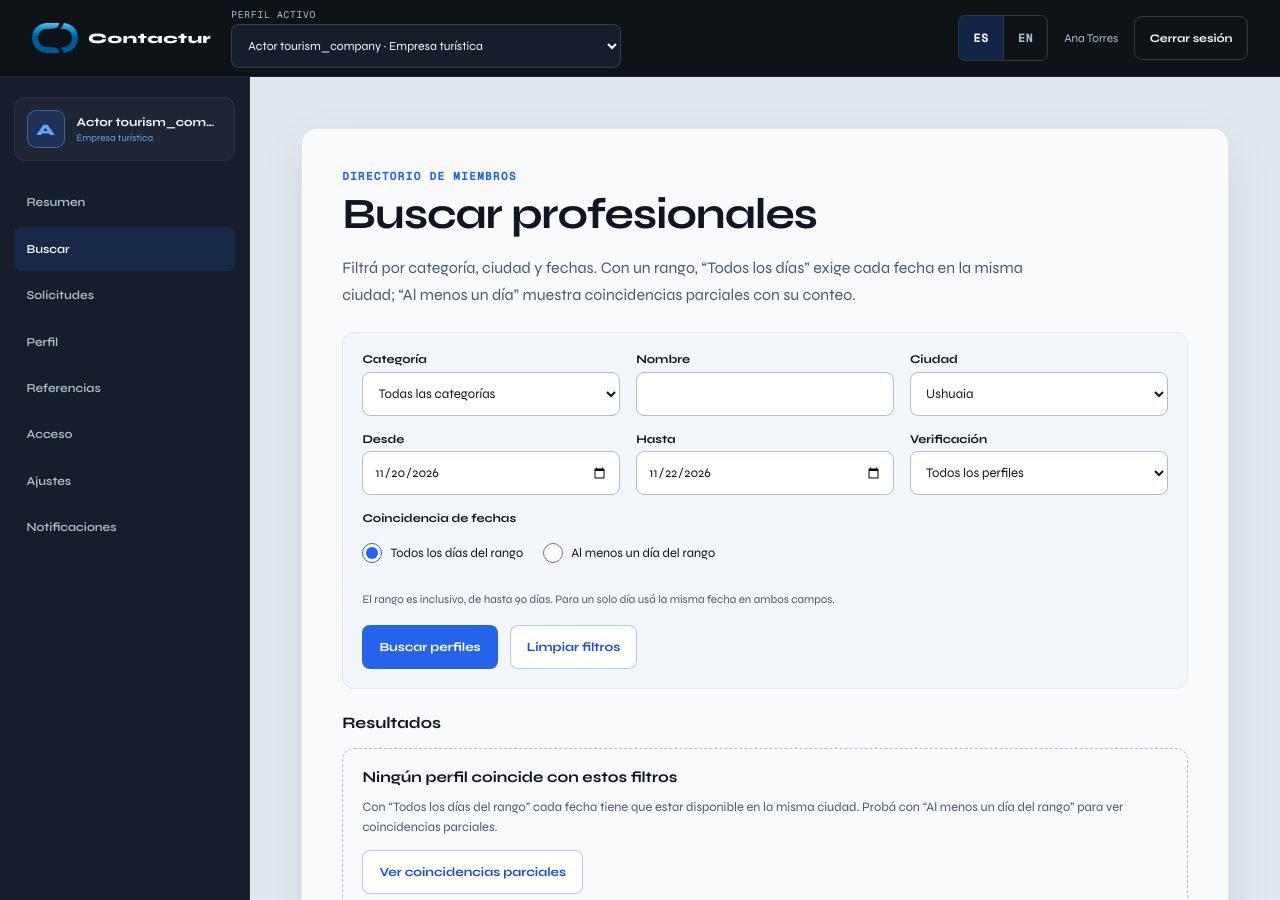
T15 — estados de la búsqueda › vacío en modo all con rango sugiere any y lo aplica
Check: the heading "Buscar profesionales" is shown, box [342,188,817,240]
Check: the heading "Ningún perfil coincide con estos filtros" is shown, box [362,768,677,786]
What coordinates should you click on to do the following:
click the button "Ver coincidencias parciales"
I would click on:
 (473, 872)
Its box is [362,850,583,894].
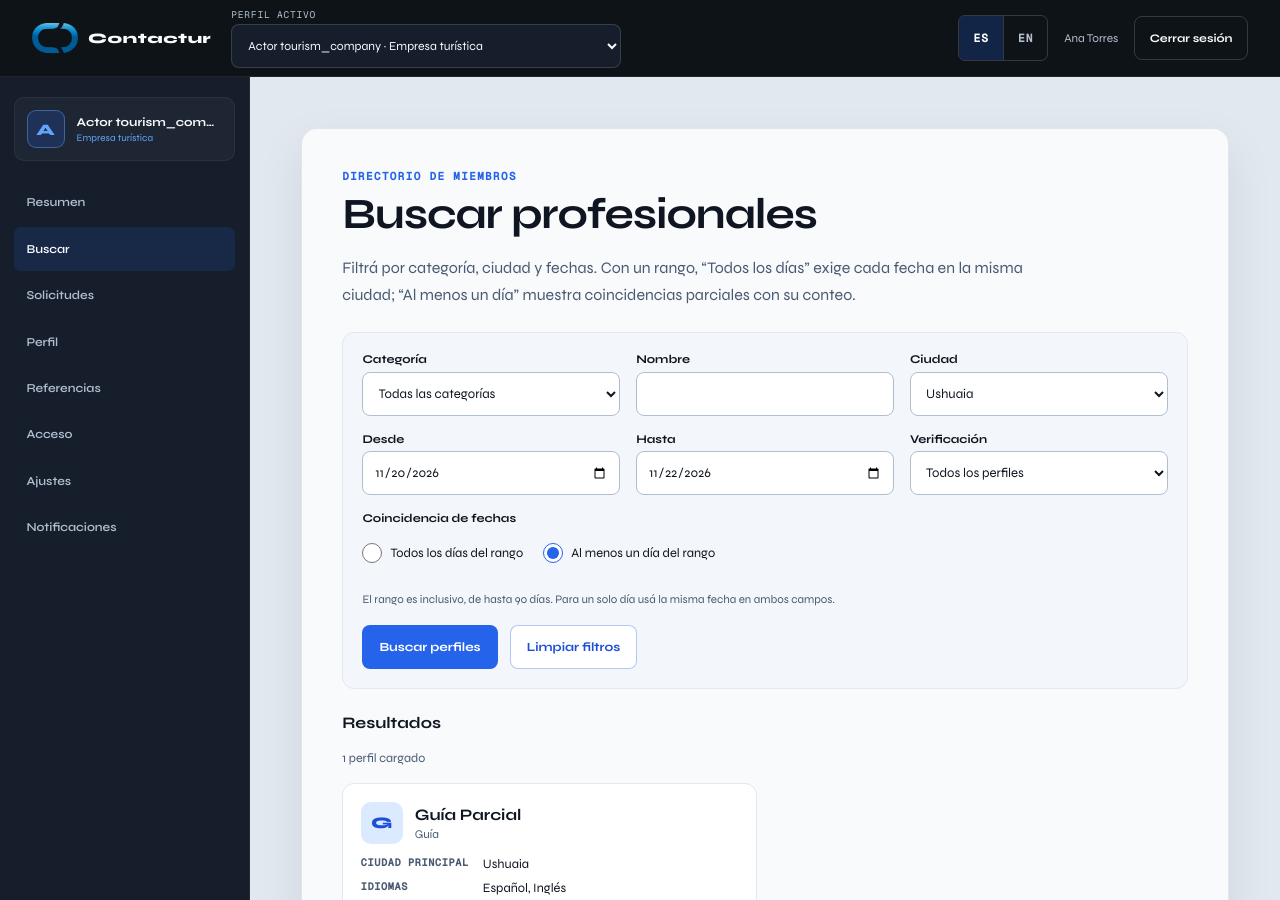
Check: the radio button labelled "Al menos un día del rango" is checked, box [543,543,563,563]
